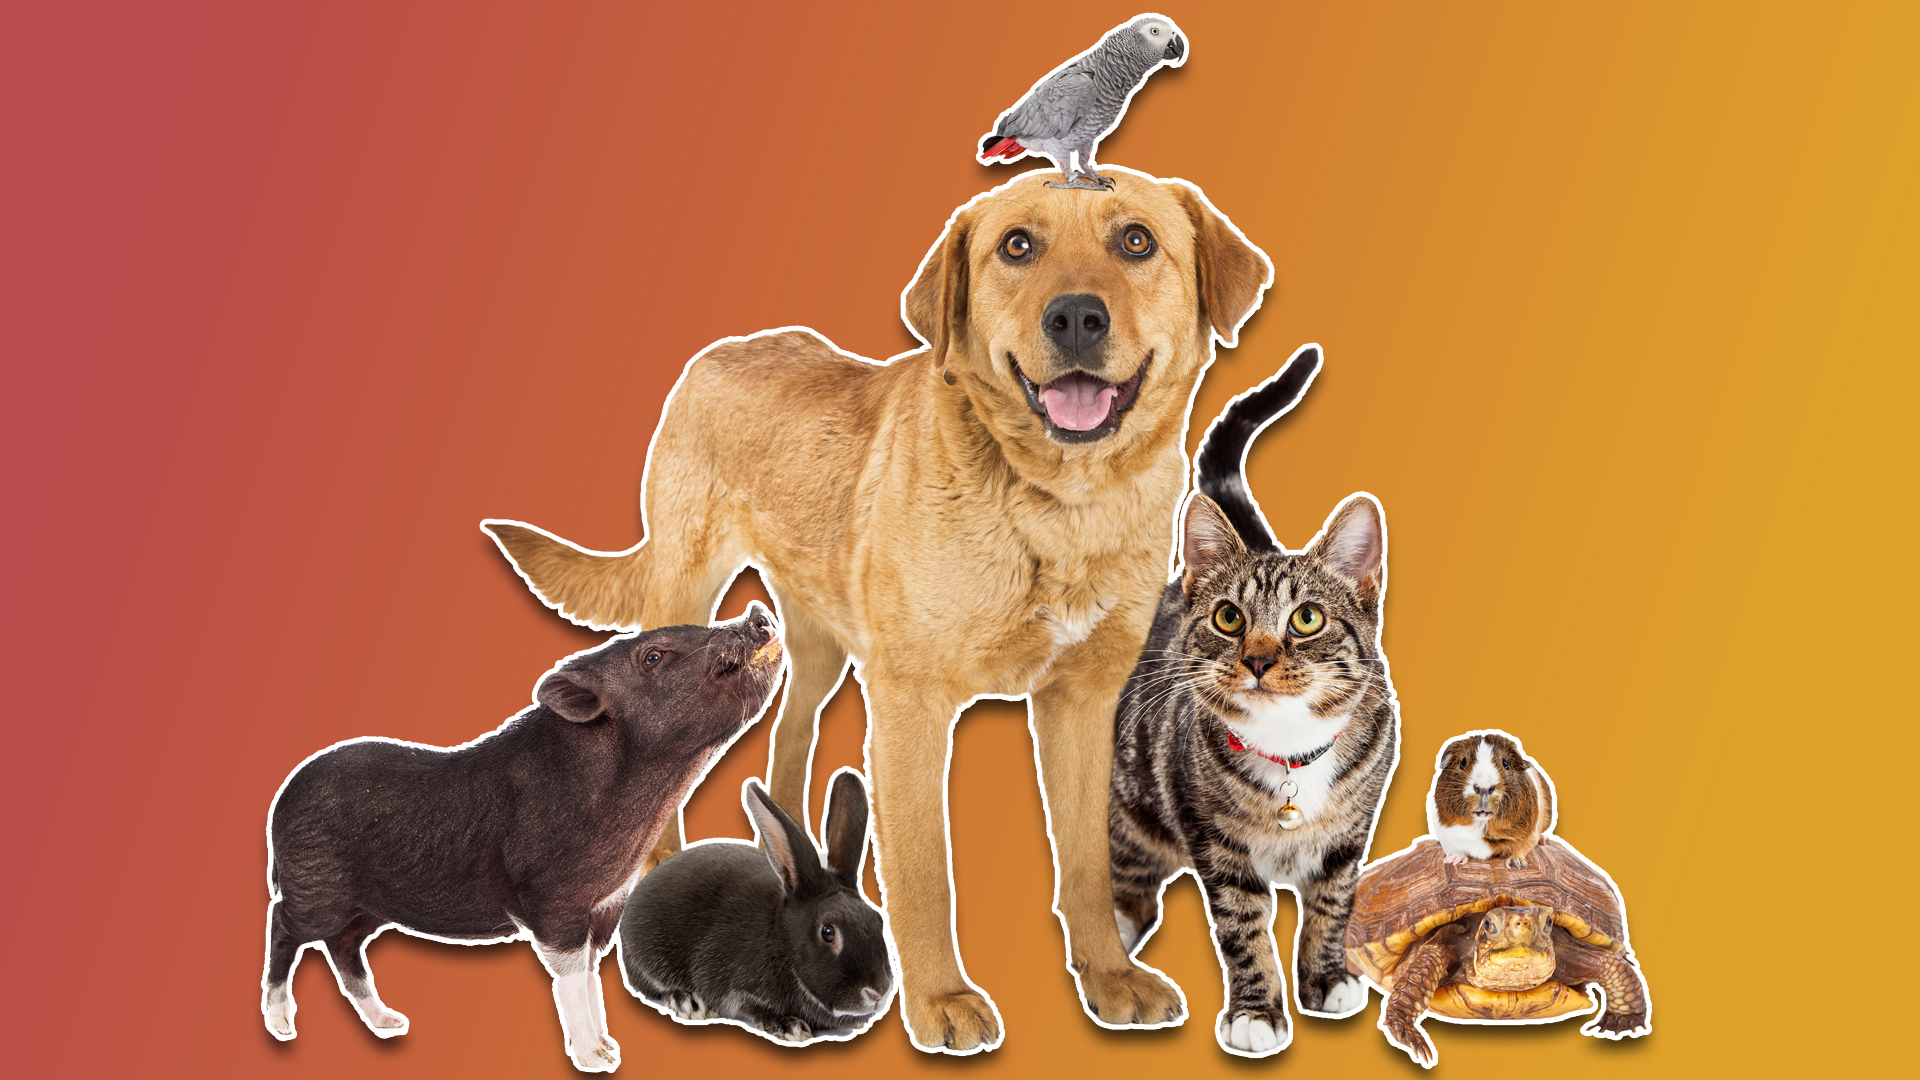cat: (1141, 529, 1382, 1000)
dog: (765, 146, 1236, 564)
rabbit: (637, 820, 928, 1076)
